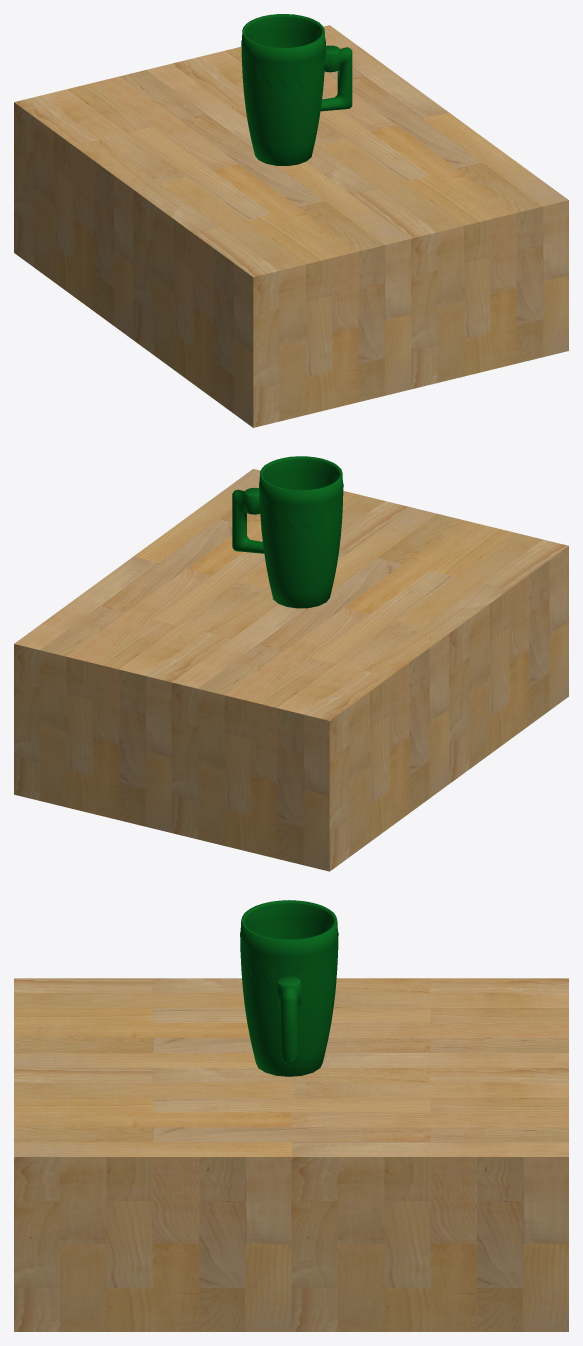
File: cup21-3.obj
3 views of the same model, one above another, from view 1: azimuth 30°, elevation 25°; view 2: azimuth 150°, elevation 25°; view 3: azimuth 270°, elevation 25° (orthographic). The views are drawn at different scales.
Parts seen in each view (by area): view 1: Box01, Line01; view 2: Box01, Line01; view 3: Box01, Line01.
Boxes of the visible parts, x1,y1,x2,y2 form: Box01: (14,25,568,427); Line01: (241,14,352,165); Box01: (14,469,568,871); Line01: (232,456,343,608); Box01: (14,978,568,1331); Line01: (240,900,338,1076).
Size of what is drawn, in the model's own units: 531 by 439 by 696.
Materials: 2 (1 with a texture image).
